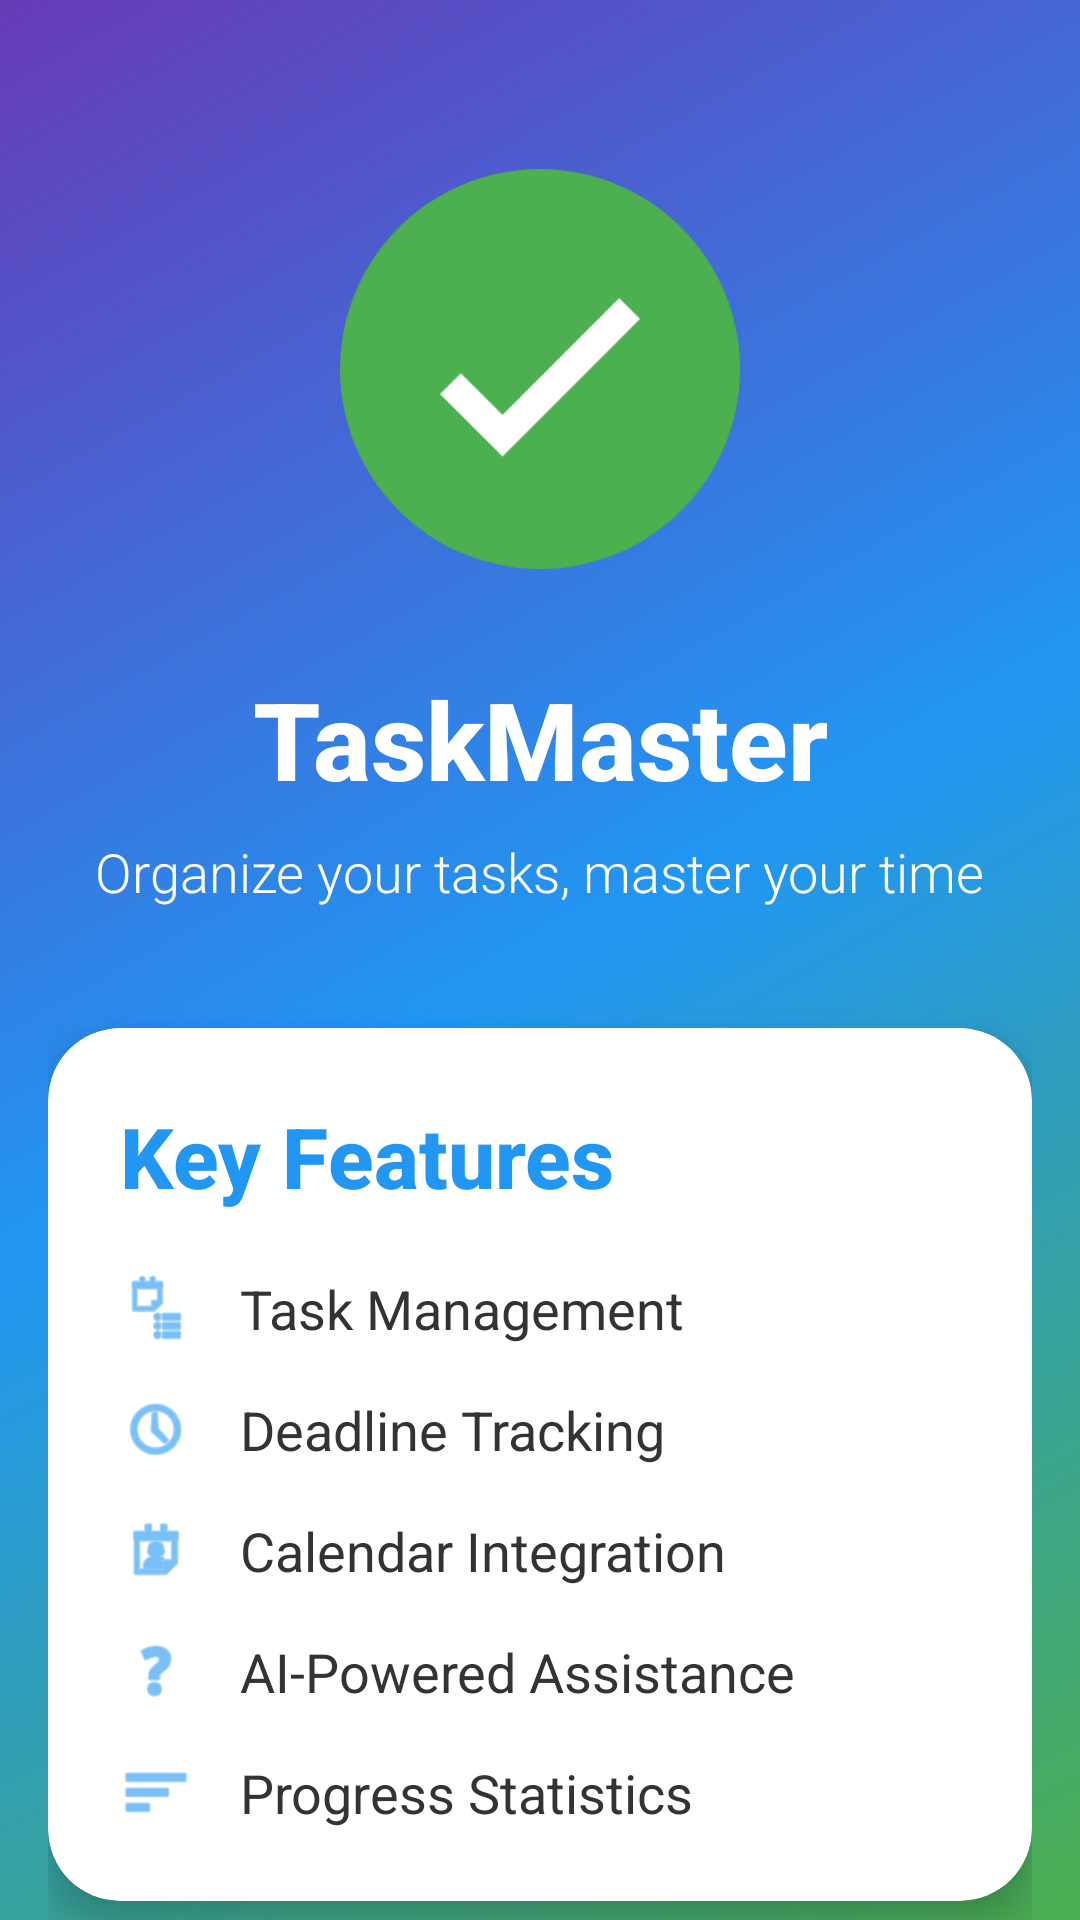

Named icons in this screenshot (1080px x 1920px) and their bounding boxes, [left=x1, top=y1, right=x2, bottom=y2]:
agenda: [left=131, top=1276, right=182, bottom=1340]
help: [left=140, top=1645, right=172, bottom=1697]
recent history: [left=130, top=1403, right=182, bottom=1455]
sort by size: [left=125, top=1772, right=187, bottom=1813]
